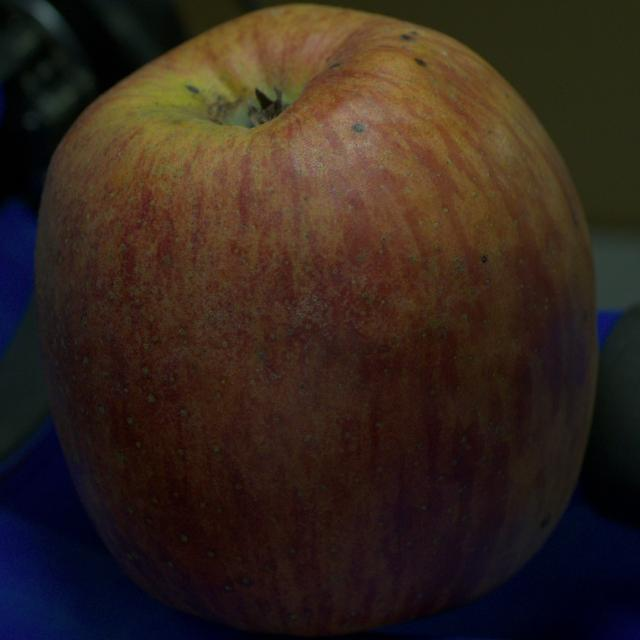apple: (35, 5, 598, 635)
pest: (352, 123, 365, 132), (329, 62, 341, 69), (187, 85, 199, 92), (415, 58, 426, 65), (541, 517, 549, 526), (401, 34, 411, 40), (482, 255, 488, 262)
